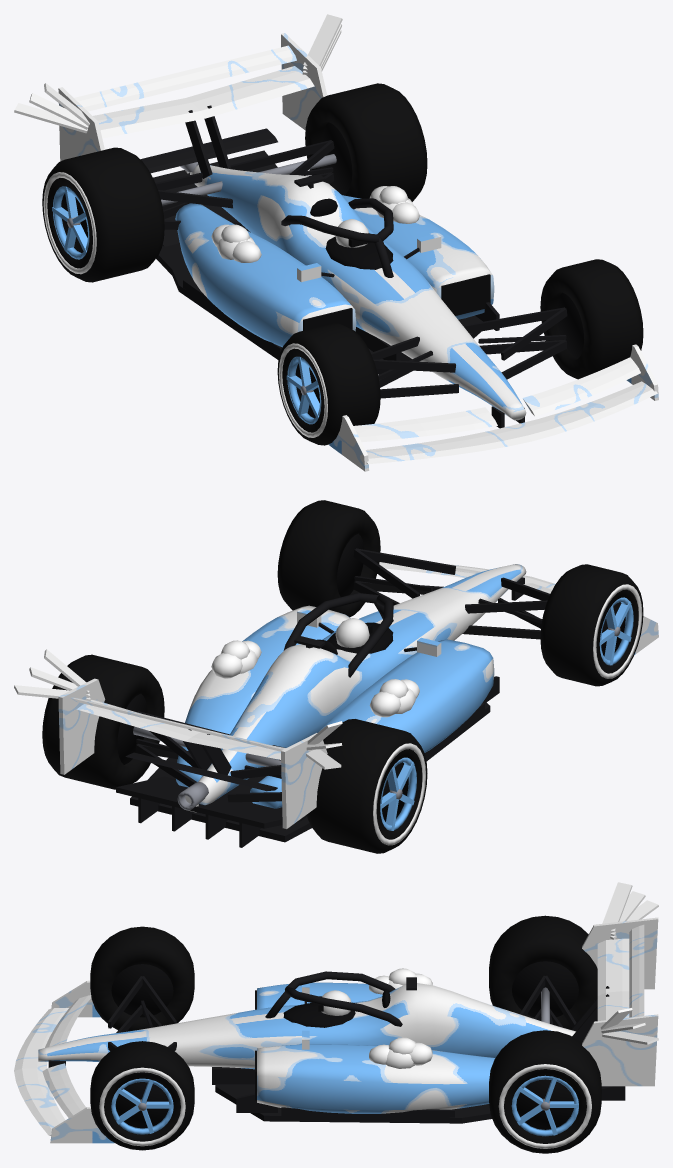
Rendered from celestial_a.fbx.
3 views of the same model, one above another, from view 1: azimuth 30°, elevation 25°; view 2: azimuth 150°, elevation 25°; view 3: azimuth 270°, elevation 25° (orthographic). The views are drawn at different scales.
Parts seen in each view (by area): view 1: Body, Trim, Wheel_RL, Wheel_RR, Wheel_FL, Wheel_FR, Acc; view 2: Body, Trim, Wheel_RL, Wheel_FL, Wheel_FR, Wheel_RR, Acc; view 3: Body, Trim, Wheel_RR, Wheel_FR, Wheel_RL, Wheel_FL, Acc.
Boxes of the visible parts, x1=… form: Body: x1=58, y1=33, x2=658, y2=471; Trim: x1=140, y1=105, x2=567, y2=428; Wheel_RL: x1=42, y1=147, x2=164, y2=282; Wheel_RR: x1=305, y1=83, x2=427, y2=201; Wheel_FL: x1=277, y1=323, x2=380, y2=445; Wheel_FR: x1=540, y1=259, x2=643, y2=379; Acc: x1=14, y1=14, x2=419, y2=262; Body: x1=58, y1=562, x2=658, y2=828; Trim: x1=116, y1=548, x2=549, y2=847; Wheel_RL: x1=307, y1=719, x2=427, y2=853; Wheel_FL: x1=540, y1=564, x2=643, y2=686; Wheel_FR: x1=277, y1=500, x2=380, y2=617; Wheel_RR: x1=42, y1=654, x2=164, y2=789; Acc: x1=14, y1=640, x2=419, y2=769; Body: x1=14, y1=917, x2=658, y2=1143; Trim: x1=48, y1=971, x2=625, y2=1123; Wheel_RR: x1=489, y1=1030, x2=601, y2=1153; Wheel_FR: x1=90, y1=1041, x2=194, y2=1150; Wheel_RL: x1=489, y1=915, x2=597, y2=1029; Wheel_FL: x1=90, y1=926, x2=194, y2=1031; Acc: x1=369, y1=882, x2=658, y2=1068.
Bounding box in the file's own units: 9.81 × 4.43 × 18.57.
Materials: 4 (1 with a texture image).
